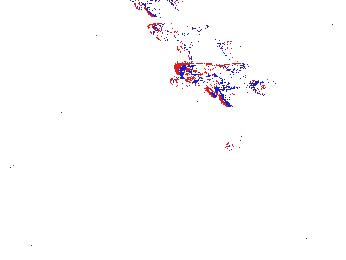red belly glassfish: (223, 133, 260, 153), (168, 74, 195, 86)
redtail glassfish: (172, 62, 276, 104), (145, 21, 240, 61), (122, 1, 183, 16)
